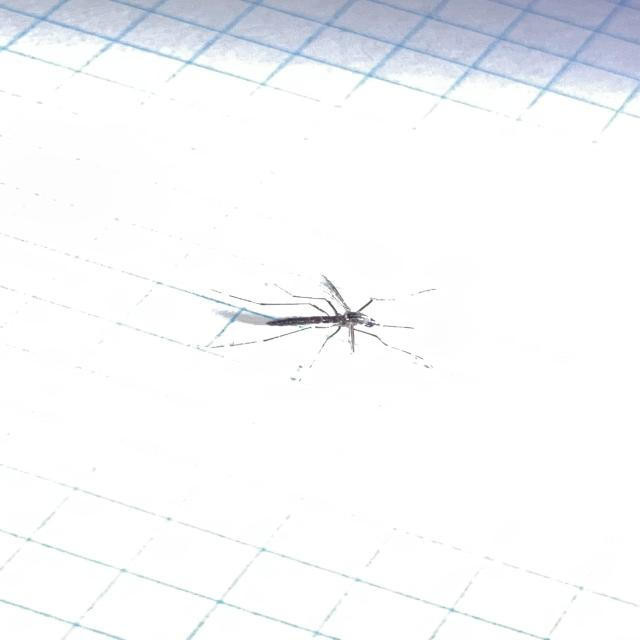albopictus: (95, 268, 444, 379)
